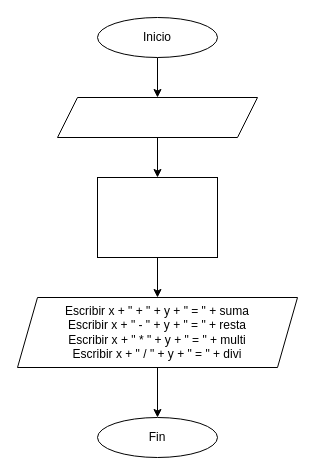
This 315x475 diagram has some shape labels left out. Each missing label, with the centre of its shape:
"Leer x Leer y" goes at point 157,117.
"suma = x + y resta = x - y multi = x * y divi = x / y" goes at point 157,217.
